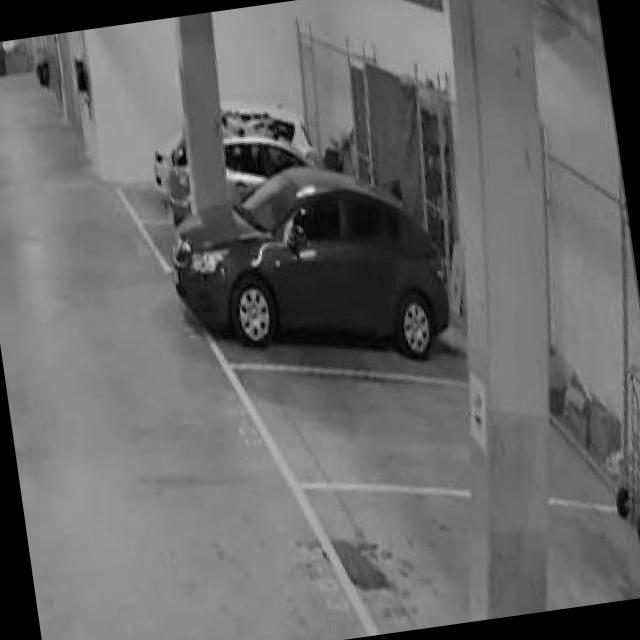Guns: (184, 627, 237, 640)
